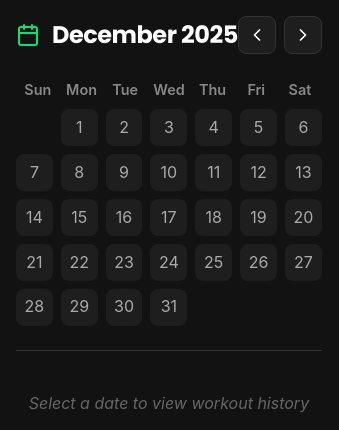
WorkoutCalendar › goes to next month
Click the 2nd button. click: (303, 35)
box: [284,16,322,54]
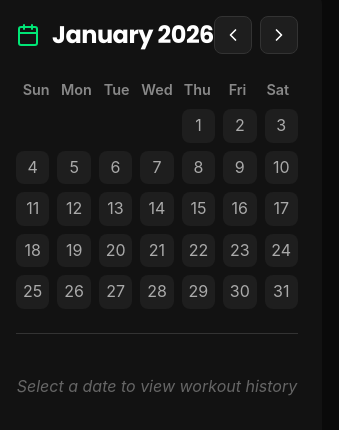
Result: the heading "January 2026" is shown at [52,16,214,54]
